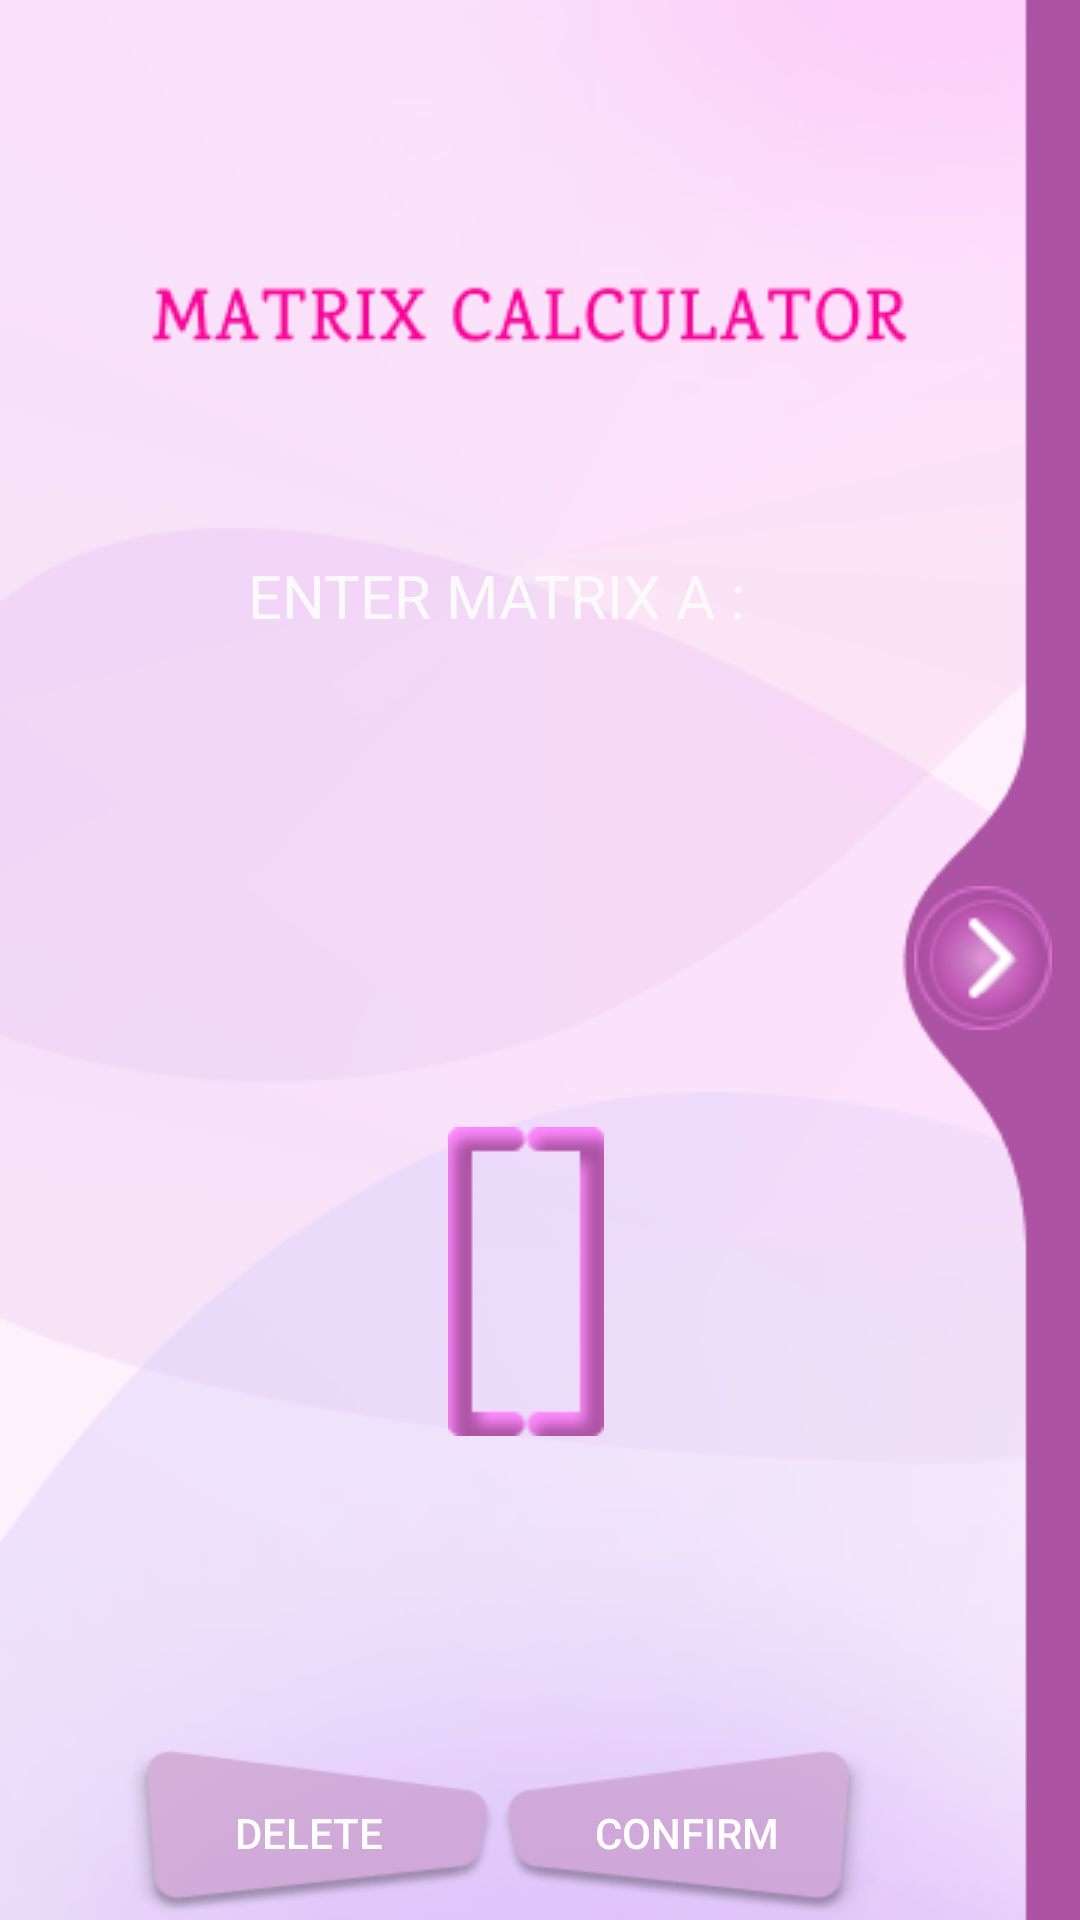

Named icons in this screenshot (1080px x 1920px) and their bounding boxes, (x1, y1, x2, y2):
left bracket: (448, 1127, 526, 1436)
right bracket: (526, 1127, 604, 1436)
